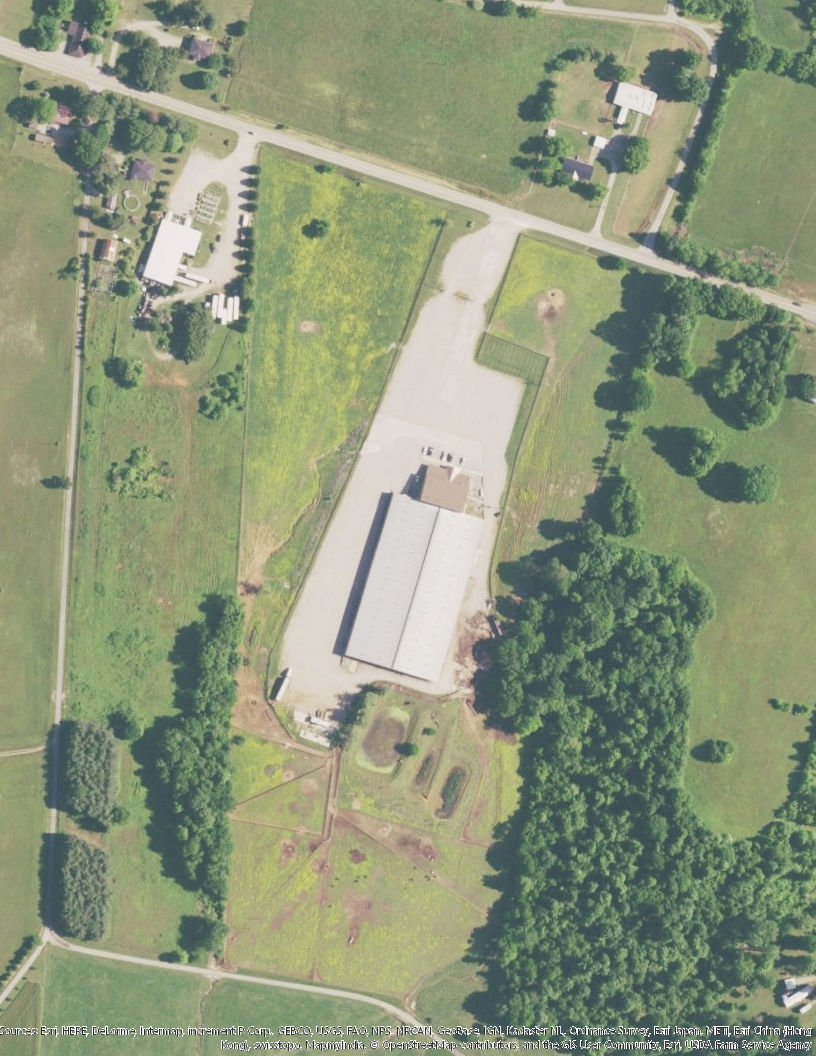cafo: (343, 447, 479, 688)
